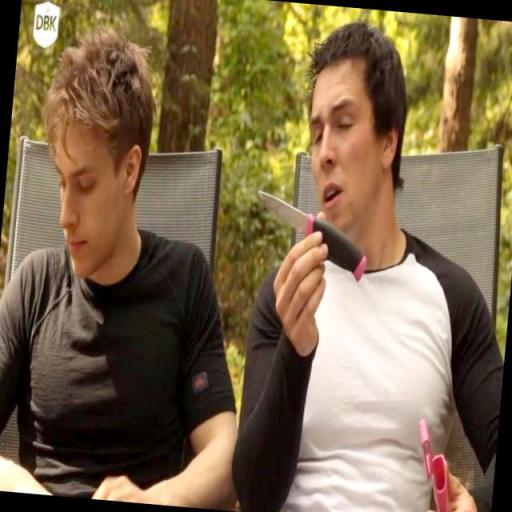knife: (250, 190, 372, 284)
